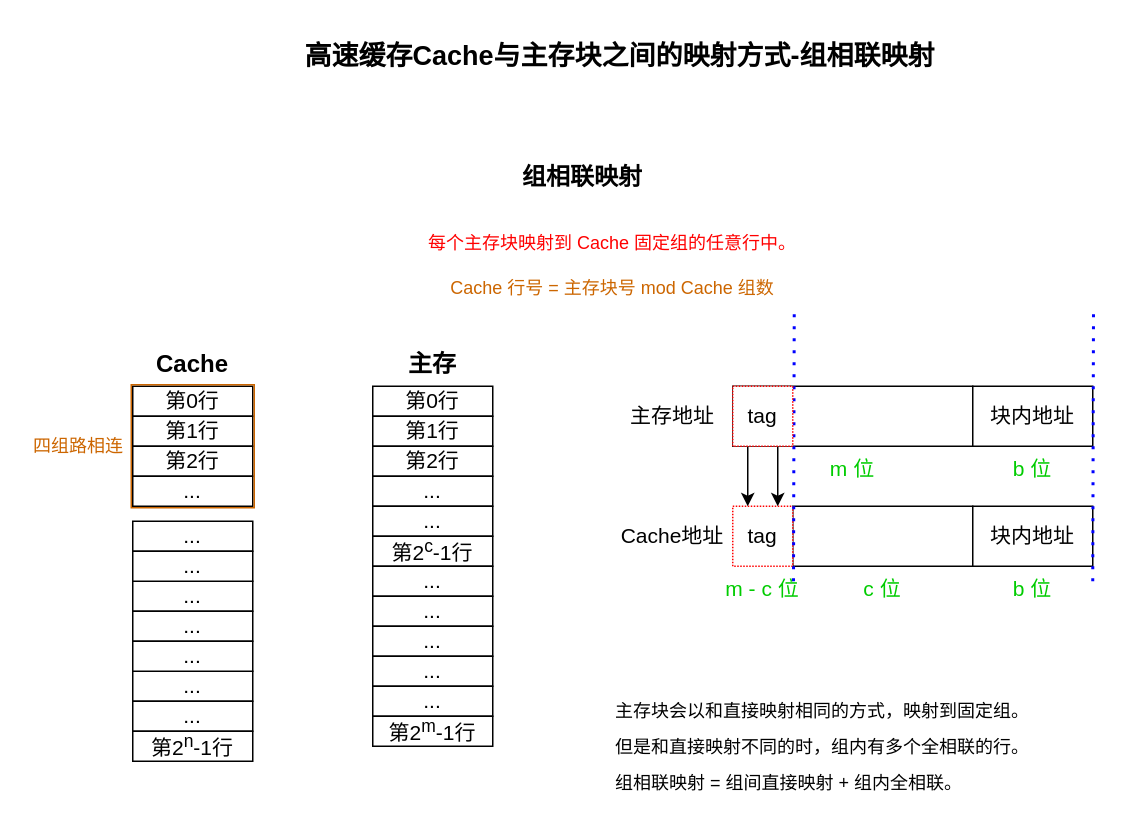
The diagram is 1122 pixels wide and 831 high, and some of its shapes have lost their labels. Each missing label, with the box of its shape:
Cache 组号: (791, 505, 973, 566)
主存块号: (731, 385, 973, 446)
